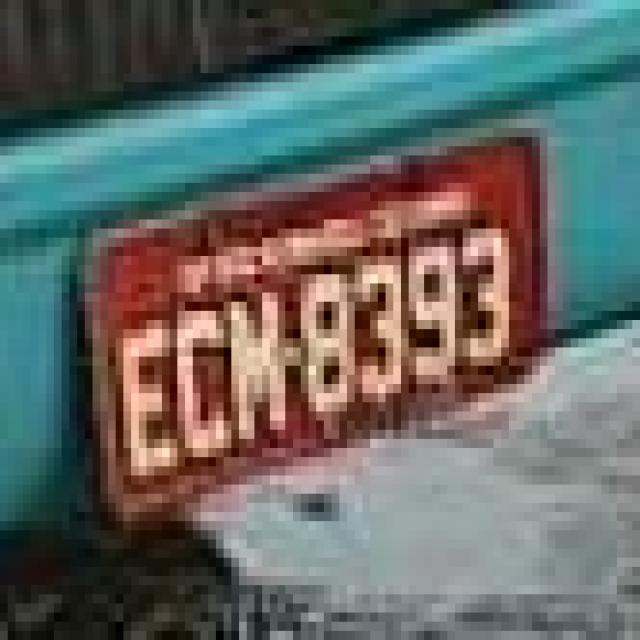3: (461, 221, 521, 391), (352, 258, 409, 436)
8: (296, 266, 358, 438)
9: (406, 226, 464, 408)
C: (173, 299, 234, 464)
E: (116, 306, 178, 490)
M: (225, 280, 284, 456)
